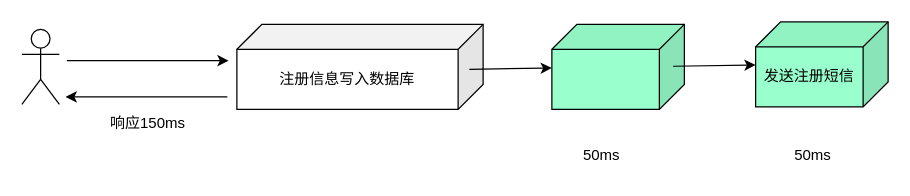
The diagram is 910 pixels wide and 196 high, and some of its shapes have lost their labels. Here are the shapes that lost their labels. From the top down, the box of each, then its label:
(21, 28, 59, 104): 用户
(551, 23, 684, 109): 发送注册邮件
